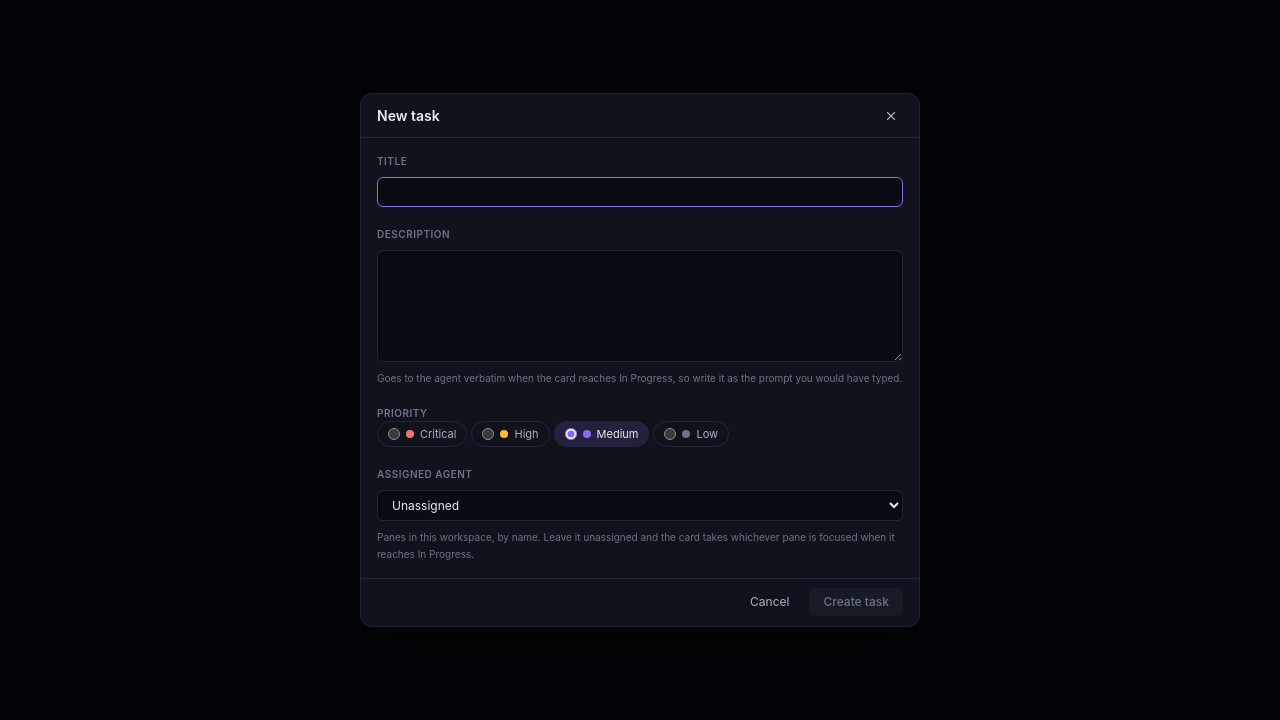
Test case: a change the store refuses › keeps the dialog and the draft instead of reporting a save
Type "Ghost" into the field labelled "Title".
click(640, 192); type("Ghost")  # box [377,177,903,207]
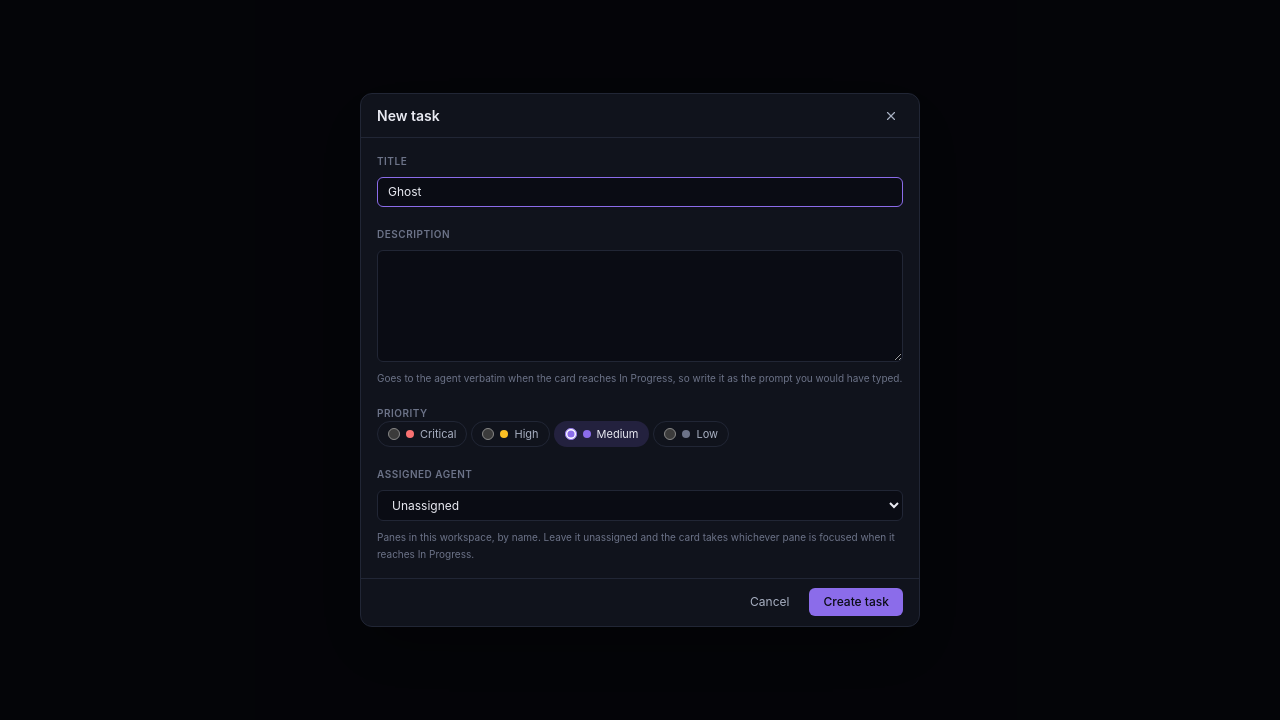
Click the button "Create task".
click(856, 602)  # box [810,588,903,616]
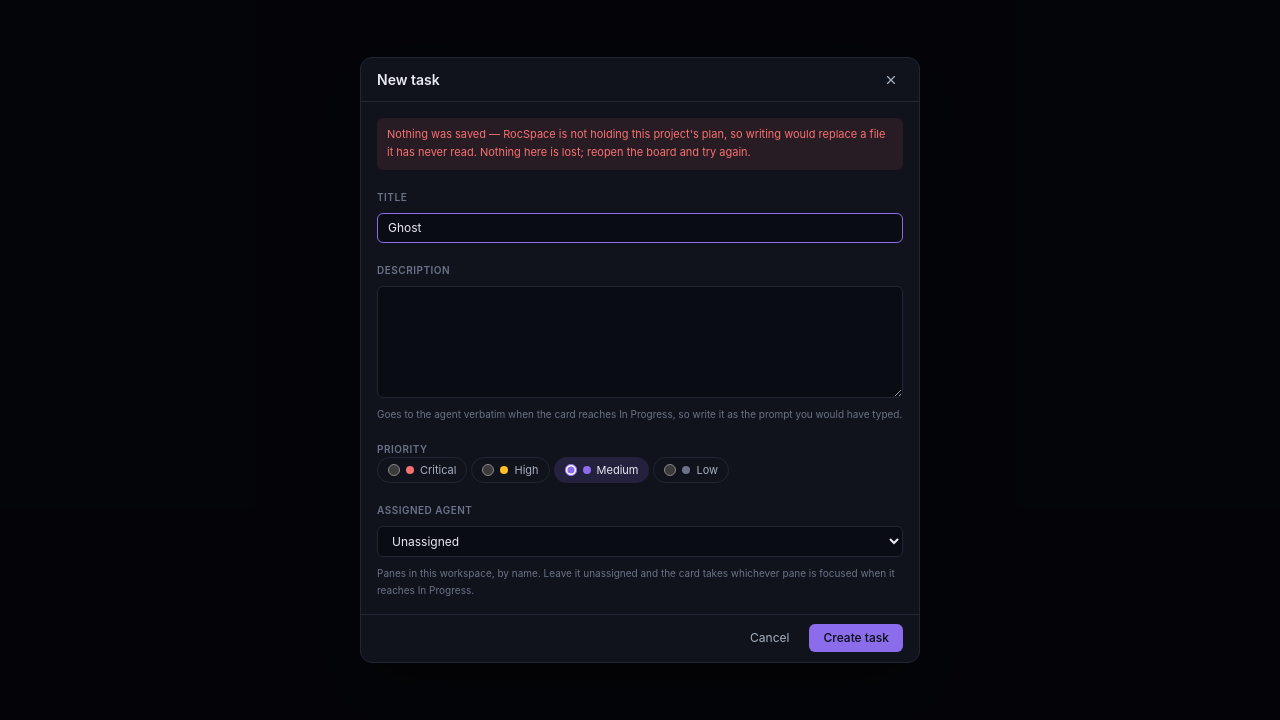
Expected: the text "Nothing was saved" is shown, [387,127,885,159]
